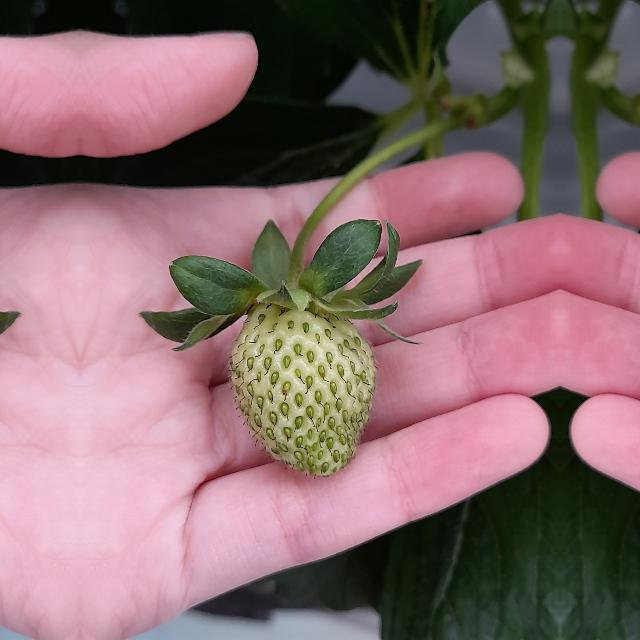Health_25: (231, 304, 375, 476)
